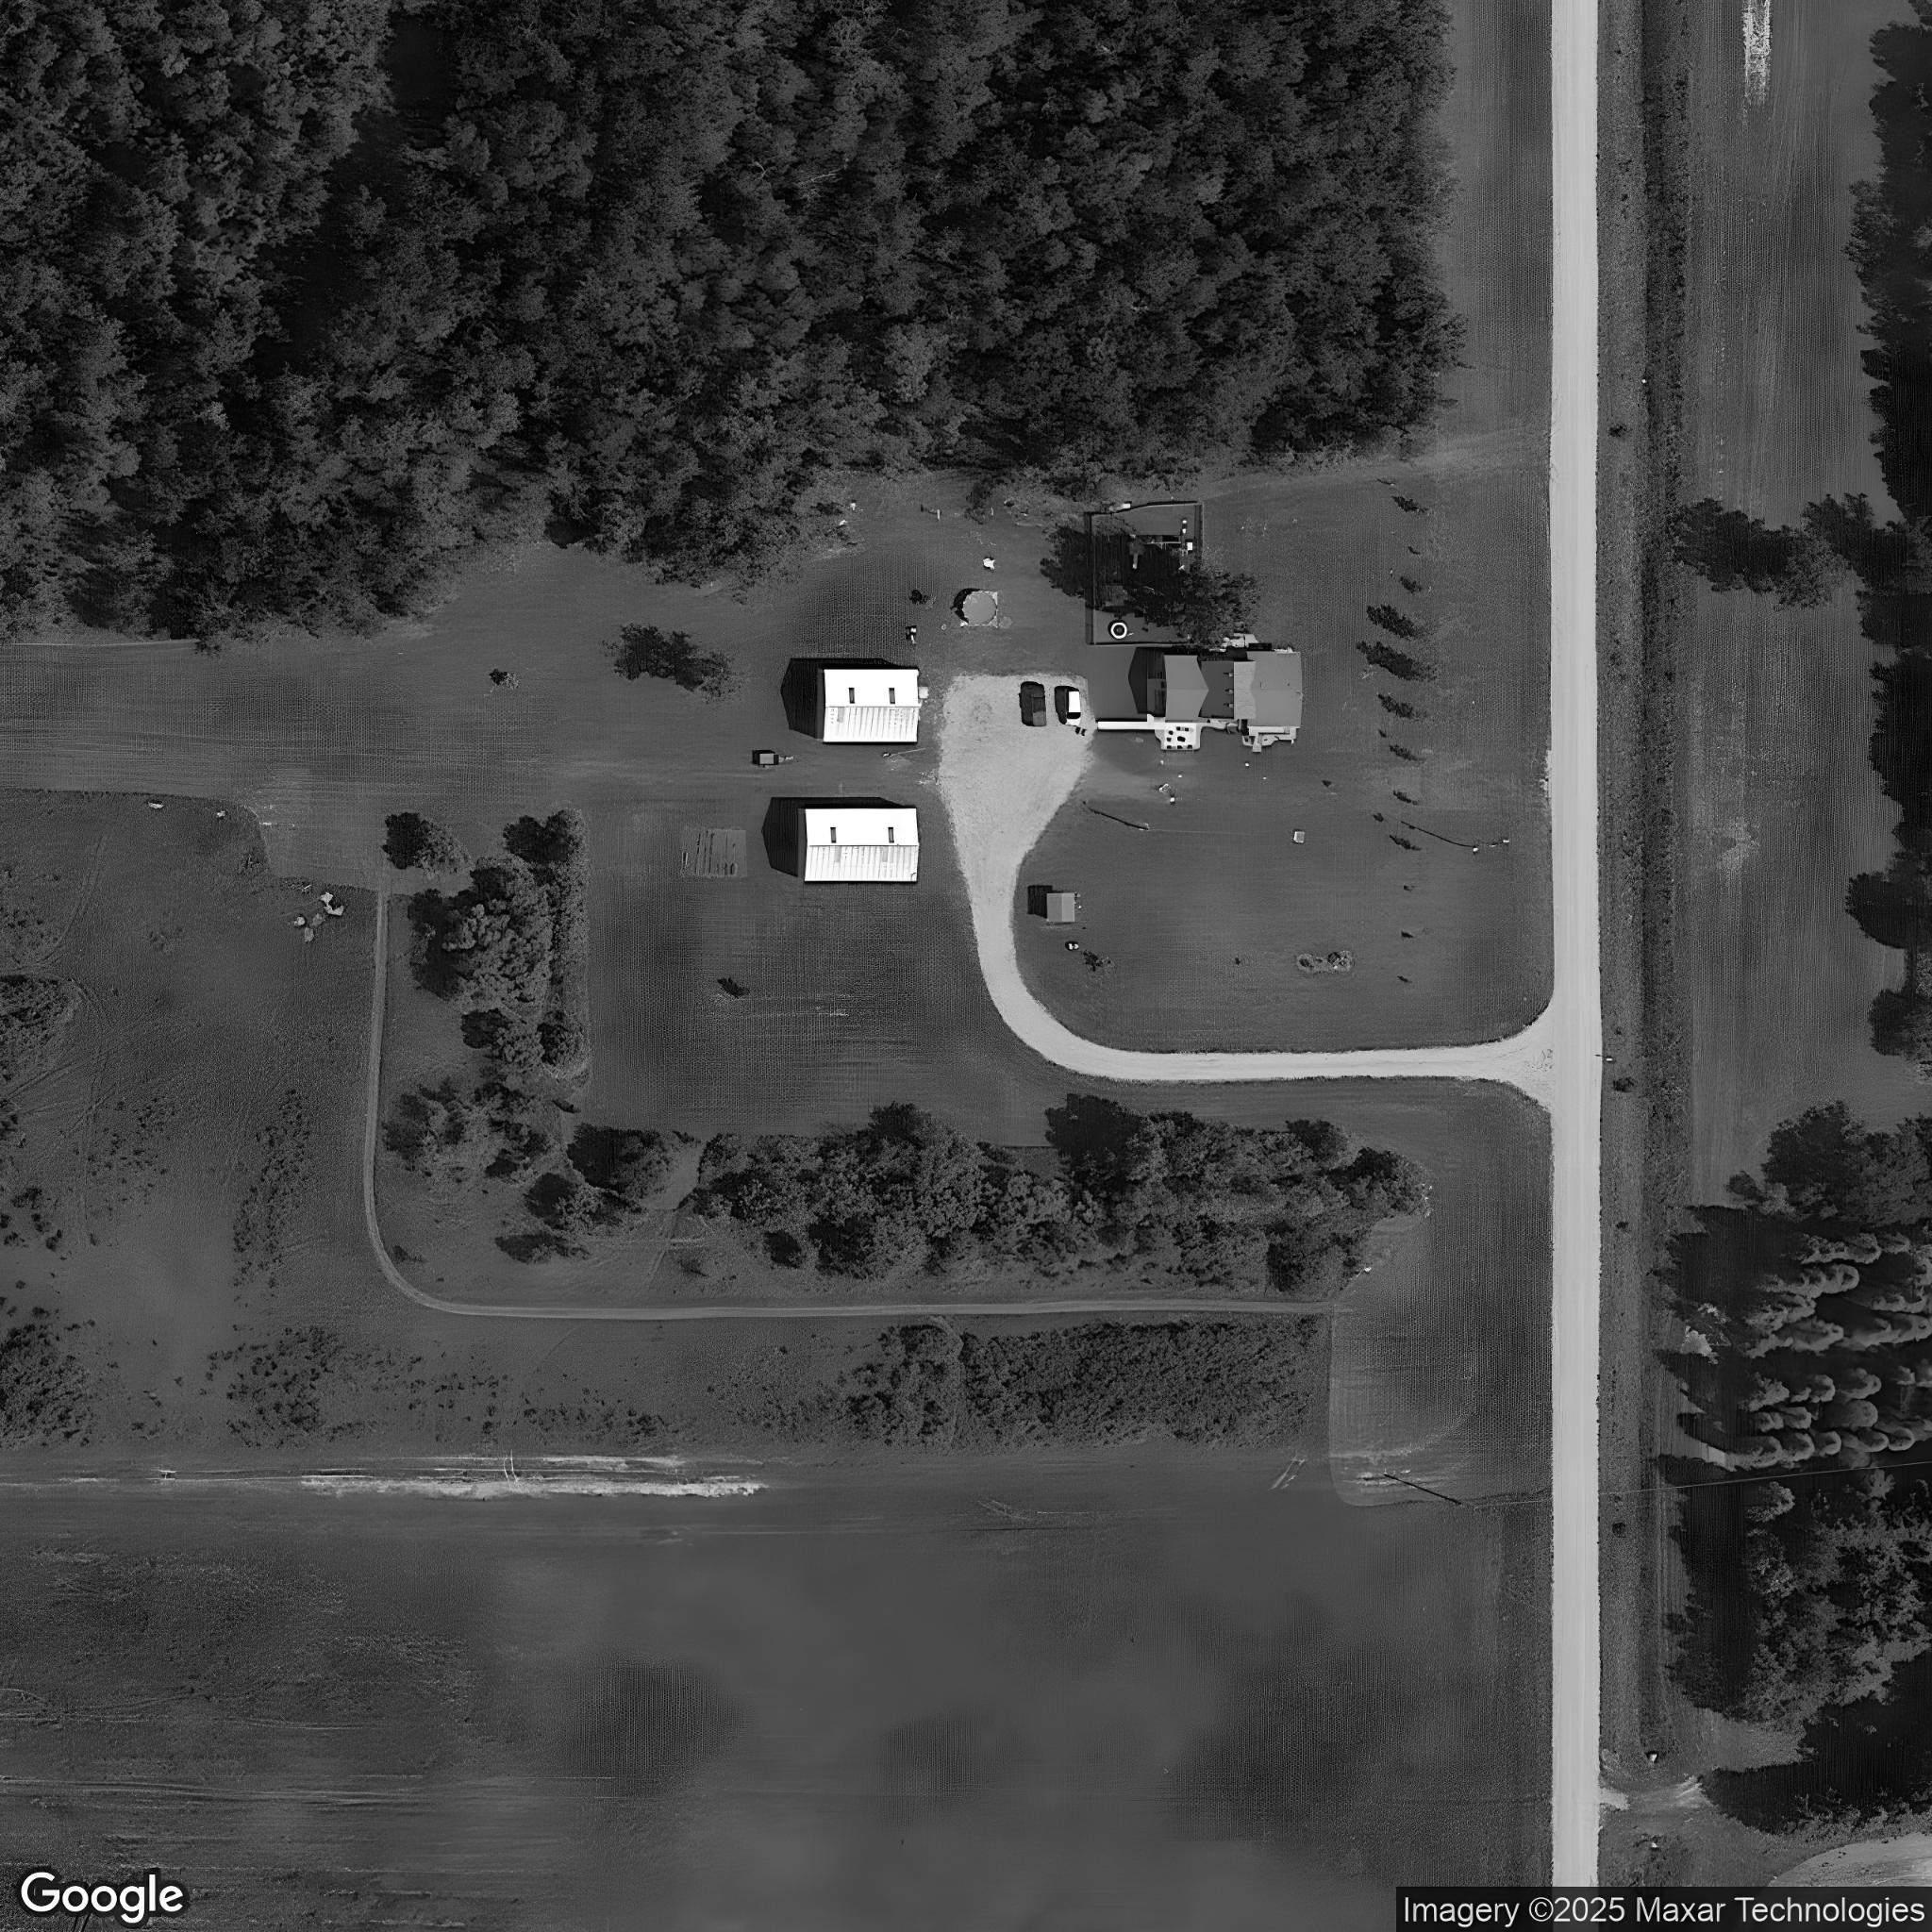House: (1164, 649, 1302, 727), (798, 809, 918, 881), (816, 669, 918, 743)
